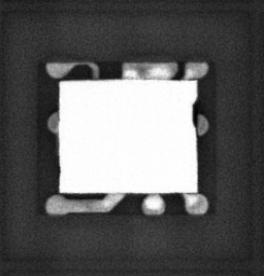DIE_BROKEN: (190, 95, 198, 130)
